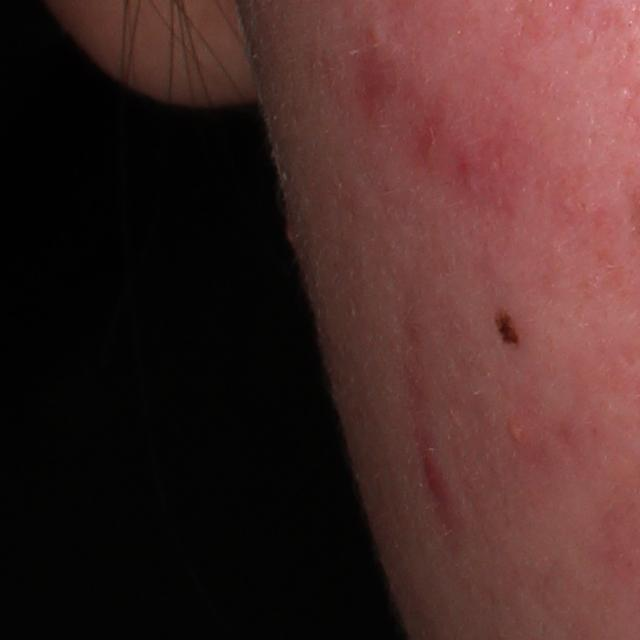nevus: (493, 307, 517, 348)
papule: (497, 406, 543, 466), (417, 453, 453, 502)
